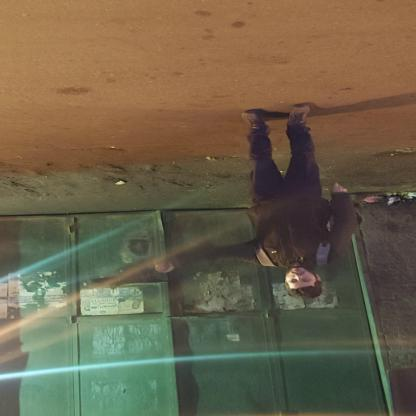long weapon: (78, 255, 209, 295)
